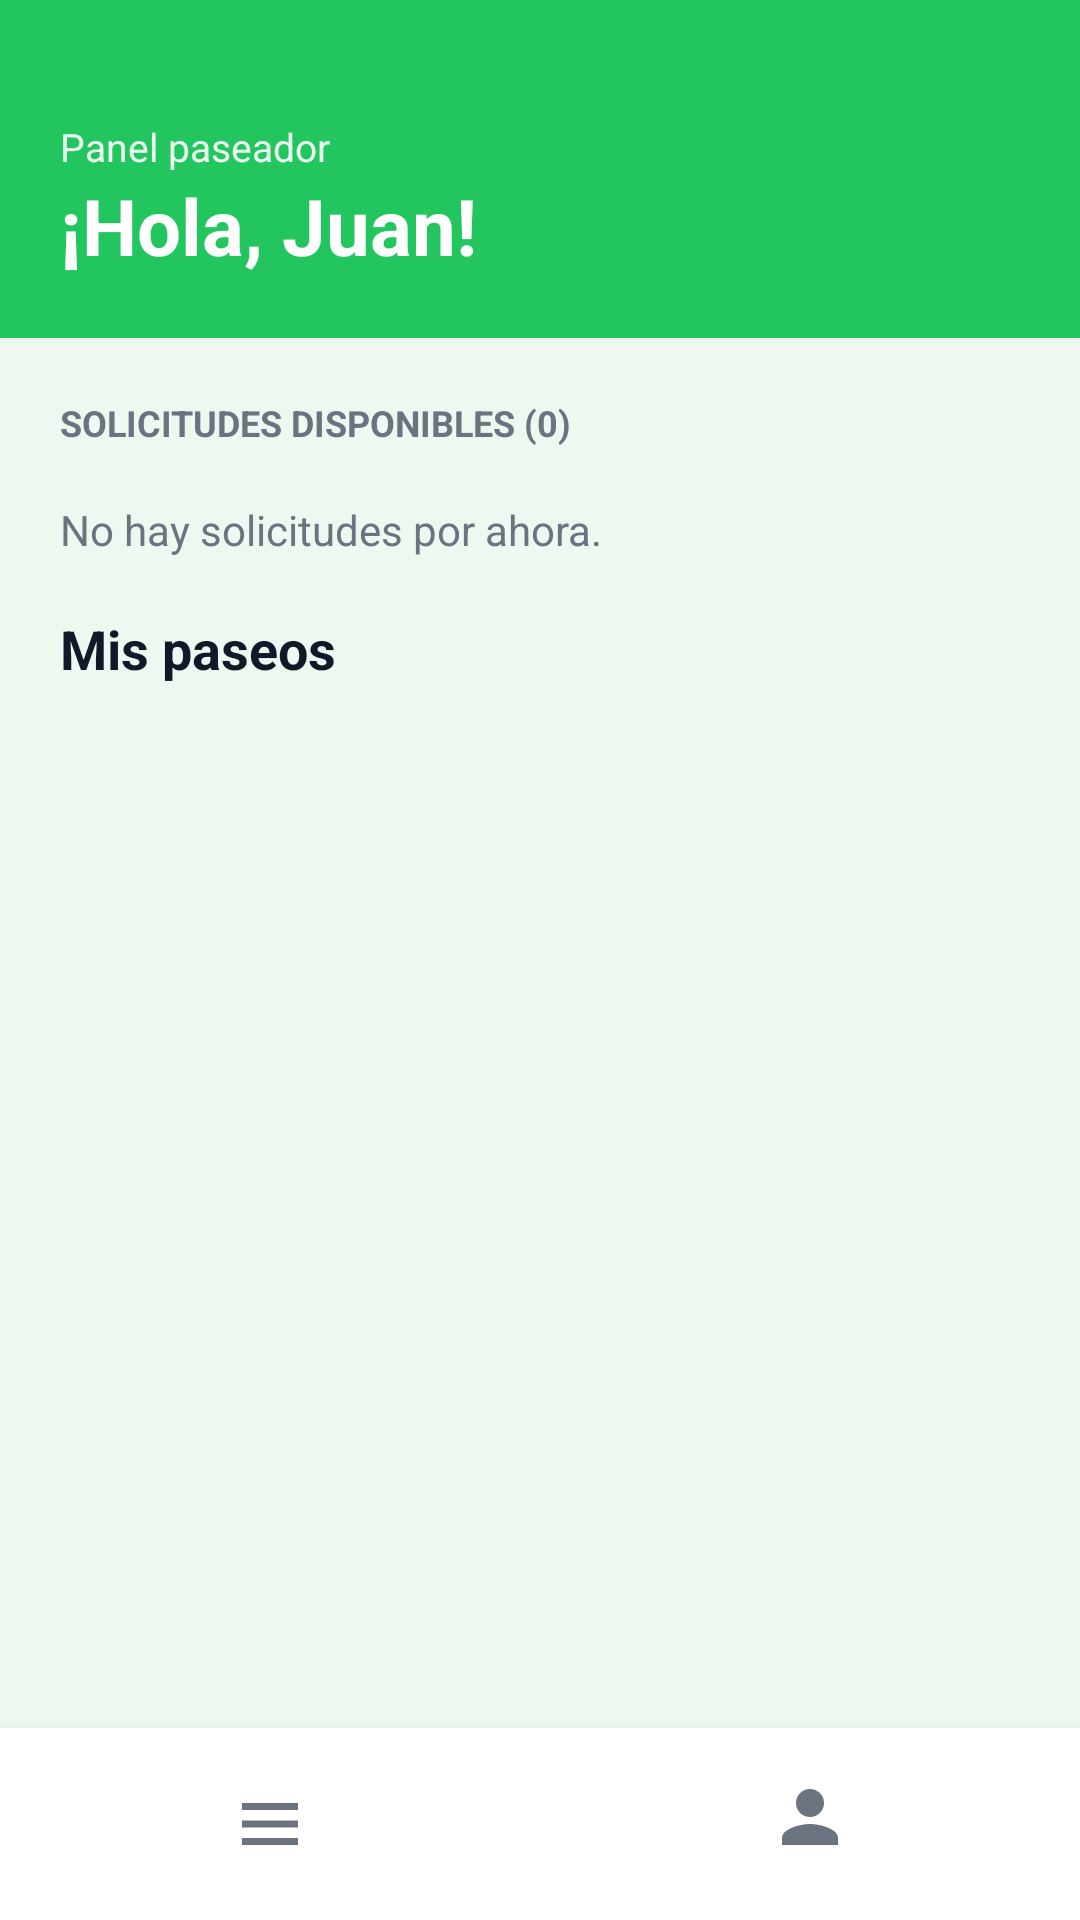

Icon click points for this 1080 × 1920 phone screenshot, format point (x, y):
perfil: point (810, 1817)
